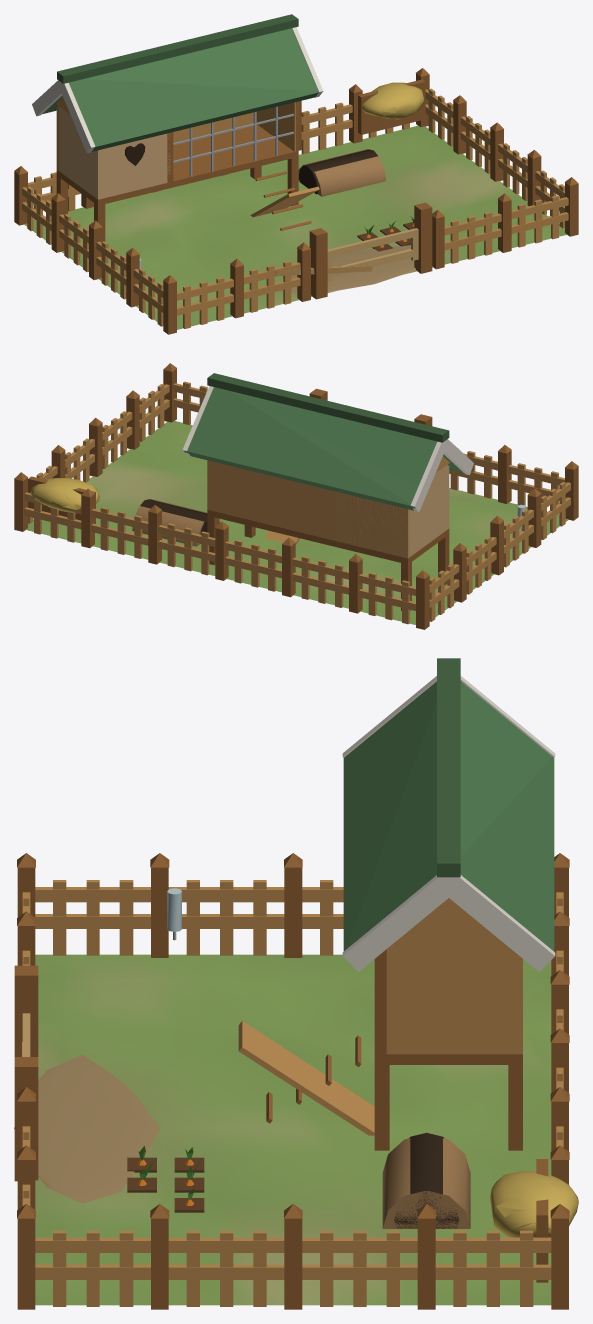
The model's file is hutch.glb.
3 views of the same model, one above another, from view 1: azimuth 30°, elevation 25°; view 2: azimuth 150°, elevation 25°; view 3: azimuth 270°, elevation 25° (orthographic). The views are drawn at different scales.
Visible parts, largest first — view 1: home-hutch, home-hutch-far; view 2: home-hutch-far, home-hutch; view 3: home-hutch, home-hutch-far.
Boxes of the visible parts, x1,y1,x2,y2 form: home-hutch: [14, 14, 578, 334]; home-hutch-far: [14, 14, 569, 333]; home-hutch-far: [14, 363, 578, 629]; home-hutch: [23, 363, 578, 629]; home-hutch: [14, 658, 578, 1309]; home-hutch-far: [14, 658, 578, 1309].
Size of the model in its own units: 5.73 by 2.56 by 3.81.
